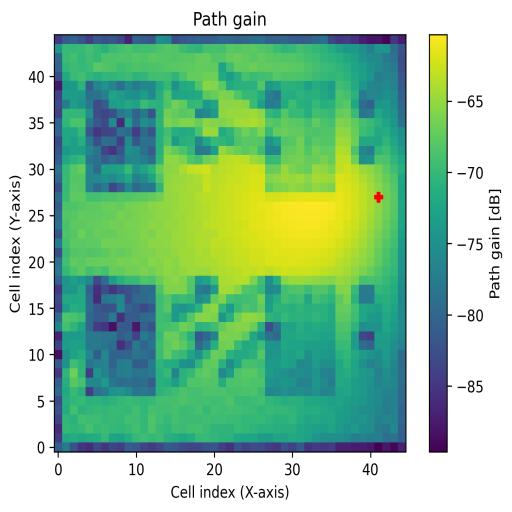Concrete: (263, 82, 336, 193)
Glass: (86, 78, 156, 194)
Metal: (265, 277, 337, 399)
Wood: (86, 277, 156, 395)
